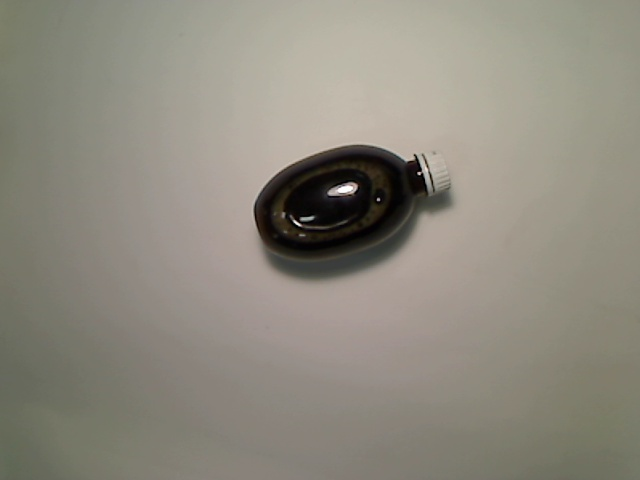plast_bottle: (252, 142, 454, 264)
